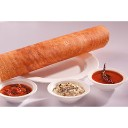dosa: (1, 21, 110, 75)
